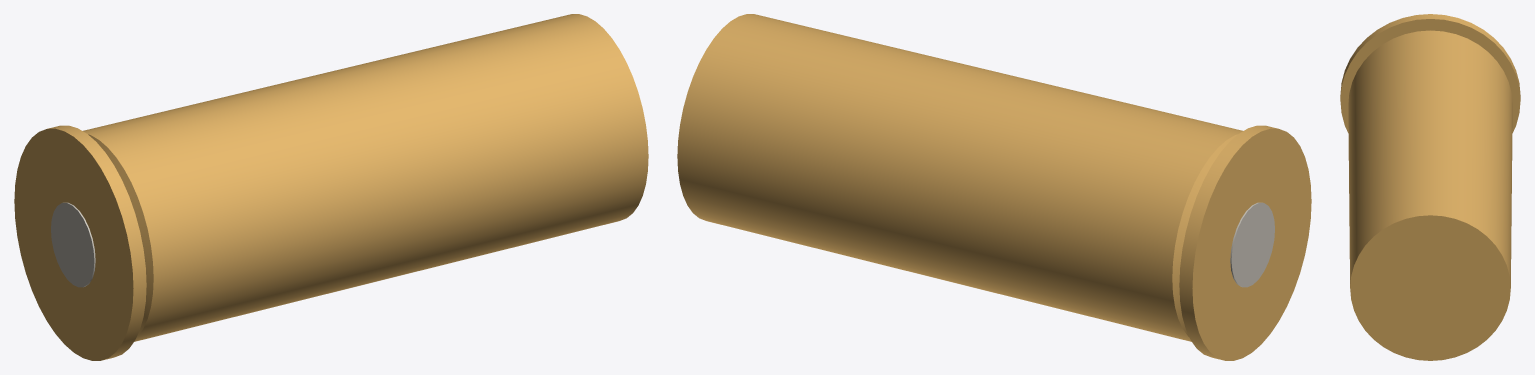
Rendered from estojo.obj.
The picture shows the model from 3 angles, left to right: view 1: azimuth 30°, elevation 25°; view 2: azimuth 150°, elevation 25°; view 3: azimuth 270°, elevation 25°; orthographic projection. The views are drawn at different scales.
Bounding box in the file's own units: 0.1277 × 0.0504 × 0.0504.
